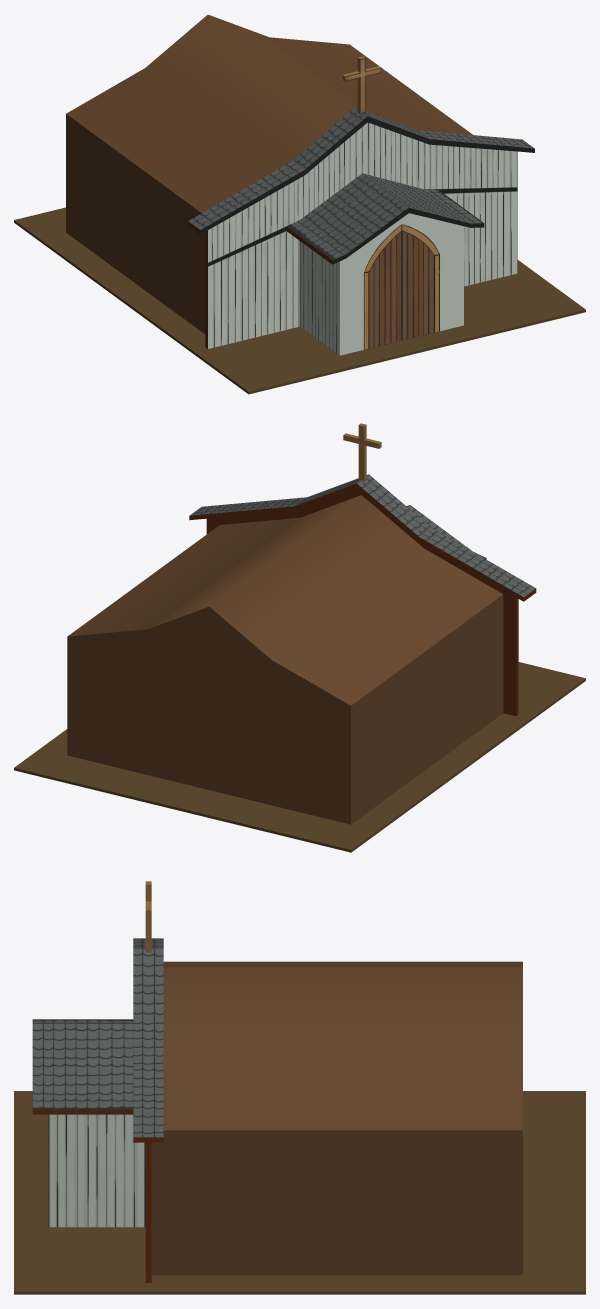
File: ChurchWBackTex_001.fbx
3 views of the same model, one above another, from view 1: azimuth 30°, elevation 25°; view 2: azimuth 150°, elevation 25°; view 3: azimuth 270°, elevation 25° (orthographic). The views are drawn at different scales.
Parts seen in each view (by area): view 1: ChurchMain, ChurchBack, ChurchBase; view 2: ChurchBack, ChurchBase, ChurchMain; view 3: ChurchBack, ChurchBase, ChurchMain.
Part boxes in pixels (x1,y1,x2,y2): ChurchMain: [188, 56, 534, 355]; ChurchBack: [66, 14, 472, 333]; ChurchBase: [14, 207, 585, 394]; ChurchBack: [67, 495, 503, 824]; ChurchBase: [14, 662, 585, 852]; ChurchMain: [189, 423, 536, 716]; ChurchBack: [151, 961, 522, 1275]; ChurchBase: [14, 1091, 585, 1294]; ChurchMain: [32, 881, 163, 1282].
Size of the model in its own units: 51.56 by 37.3 by 62.14.
4 materials, 1 textured.
